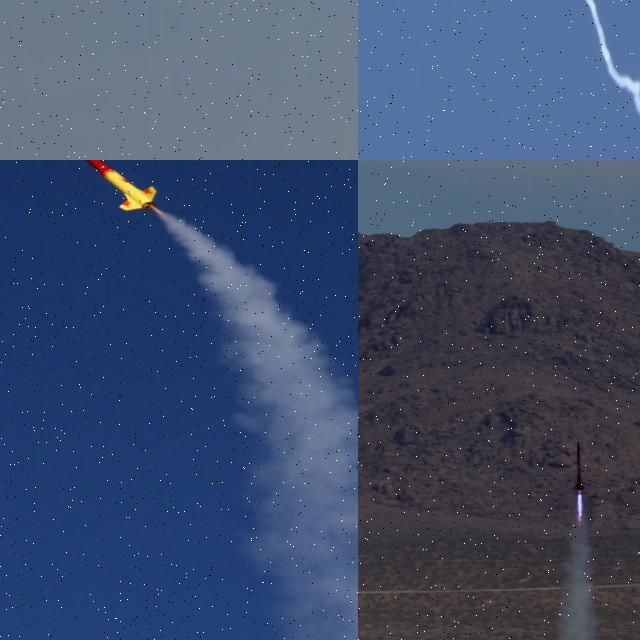Rocket: (59, 160, 158, 213), (572, 439, 586, 492)
